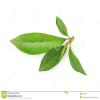Peach leaf: (7, 33, 66, 56), (37, 45, 67, 72), (68, 45, 88, 77), (55, 15, 69, 37)
